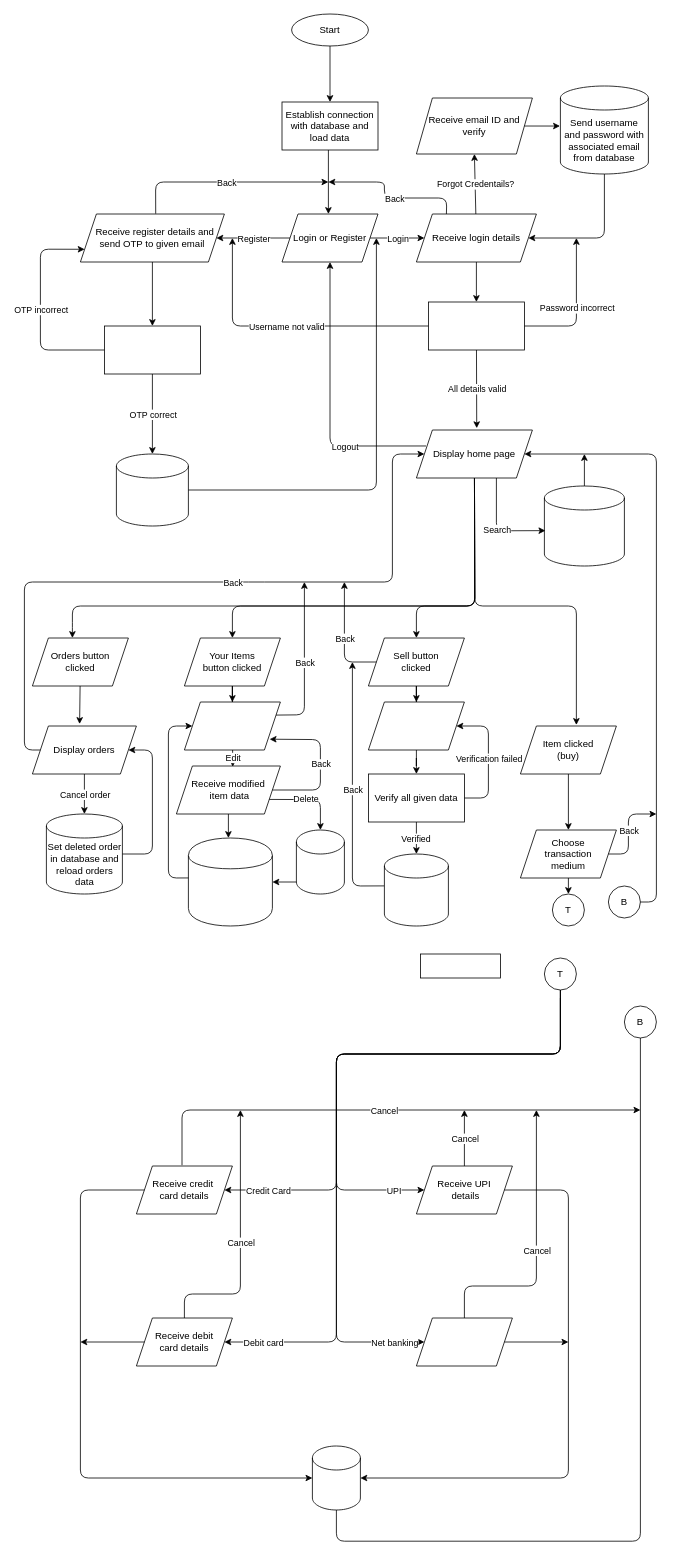
Some shapes in this 677 by 1562 pixel diagram are drawn without their labels. Here are the shapes that lost their labels. From the top down, the box of each, then its label:
(428, 301, 524, 350): Verify email, phone number and unique username
(104, 325, 200, 374): Verify received OTP
(116, 453, 188, 526): Update new user in database
(544, 485, 624, 566): Filter items from database and update data
(184, 701, 280, 750): Display Items
(368, 701, 464, 750): Receive new item data
(188, 837, 272, 926): Set modified data in database and refresh data
(296, 829, 344, 894): Set deleted in database
(384, 853, 448, 926): Update data in database
(420, 953, 500, 978): T - Transaction B - Back
(416, 1317, 512, 1366): Receive net banking details
(312, 1445, 360, 1510): Update database
